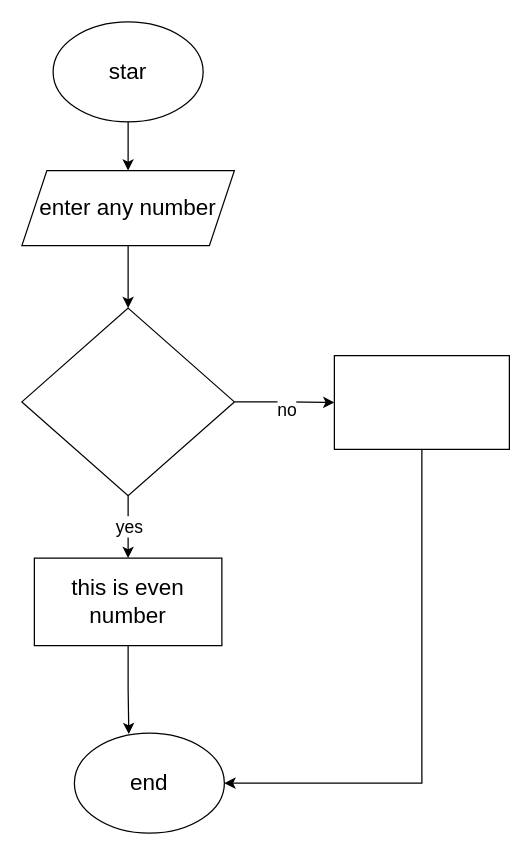
Image size: 531x855. Some labels were removed from this diagram. Each missing label, with the centre of its shape:
"check if the remainder of number divided by 2 = 0 ?" belongs at pixel 127 401.
"this is odd number" belongs at pixel 421 401.
